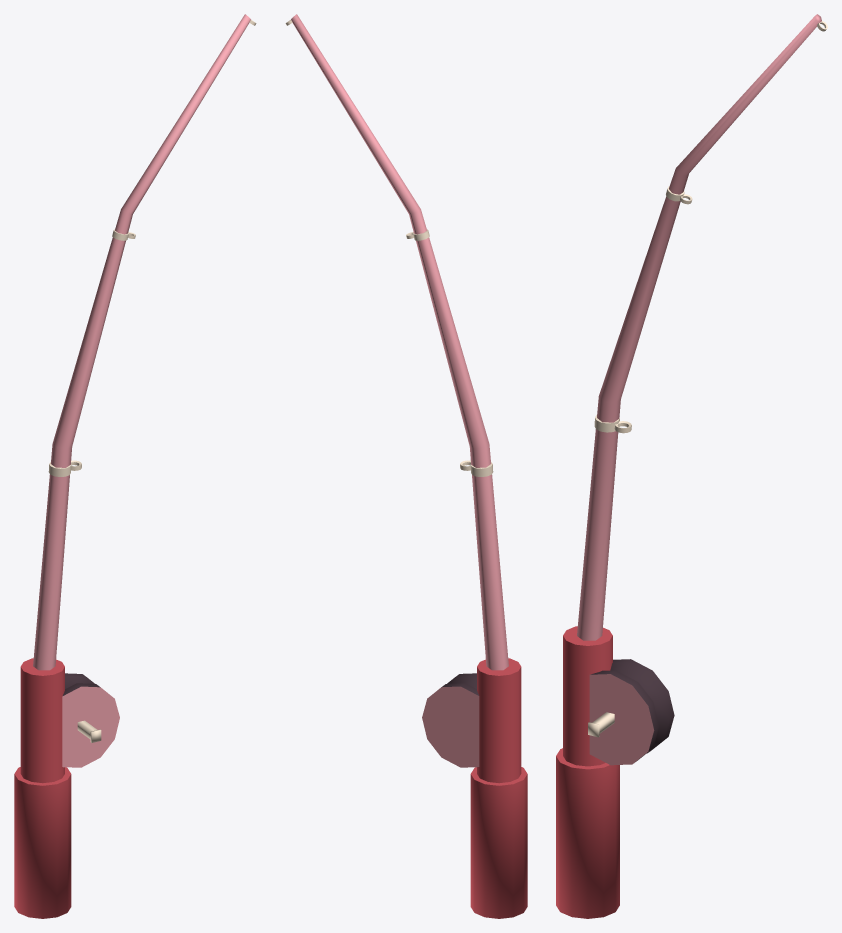
Rendered from vara_pesca.fbx.
3 renders of one model, left to right at view 1: azimuth 30°, elevation 25°; view 2: azimuth 150°, elevation 25°; view 3: azimuth 330°, elevation 25°, orthographic. The views are drawn at different scales.
Parts seen in each view (by area): view 1: Vara_Pesca; view 2: Vara_Pesca; view 3: Vara_Pesca.
Boxes of the visible parts, left/top/right/bottom form: Vara_Pesca: left=14, top=14, right=256, bottom=918; Vara_Pesca: left=285, top=14, right=527, bottom=918; Vara_Pesca: left=556, top=14, right=827, bottom=918.
Bounding box in the file's own units: 26.57 × 90.06 × 7.49.
